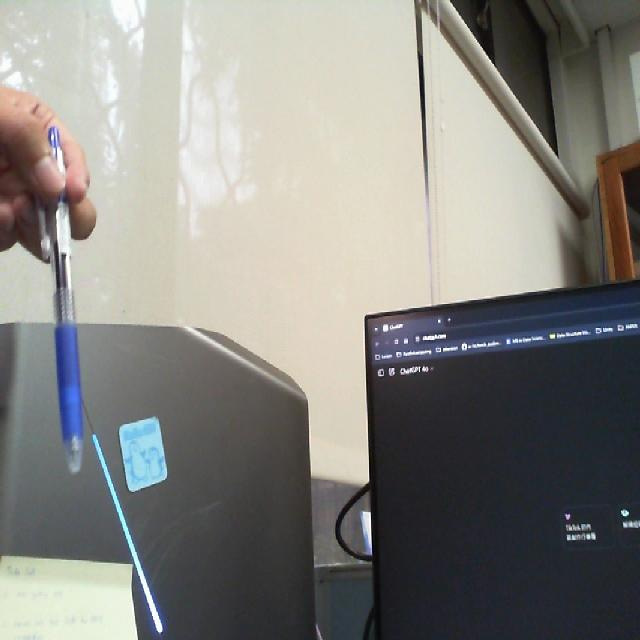Pen: (31, 103, 99, 491)
